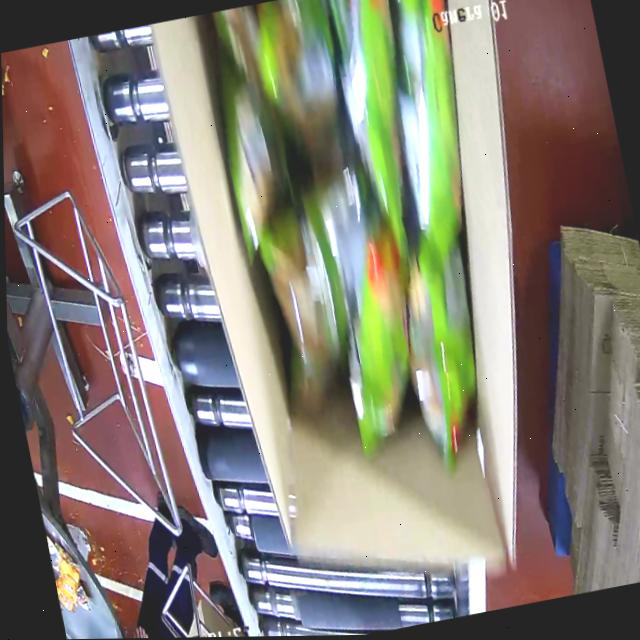YOGURT_HERB: (196, 0, 506, 470)
